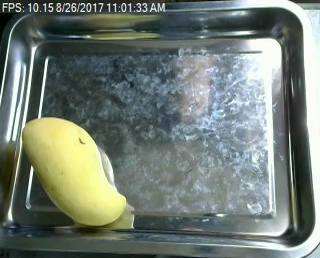Mango: (19, 116, 130, 231)
